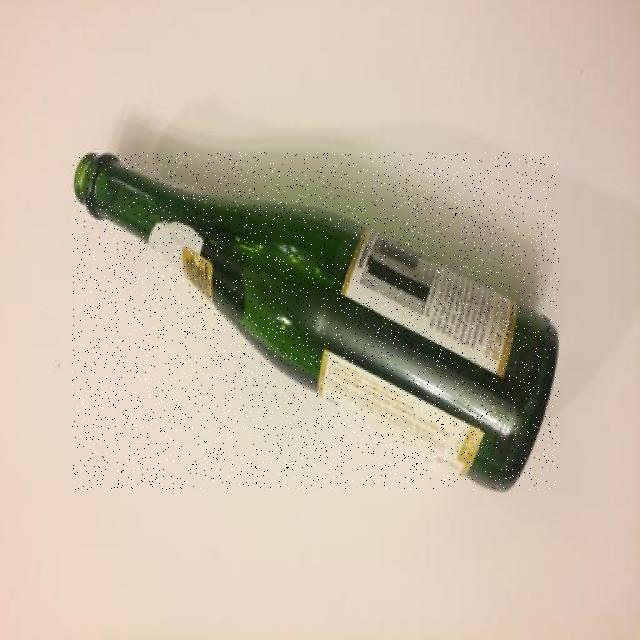glass: (73, 152, 559, 490)
